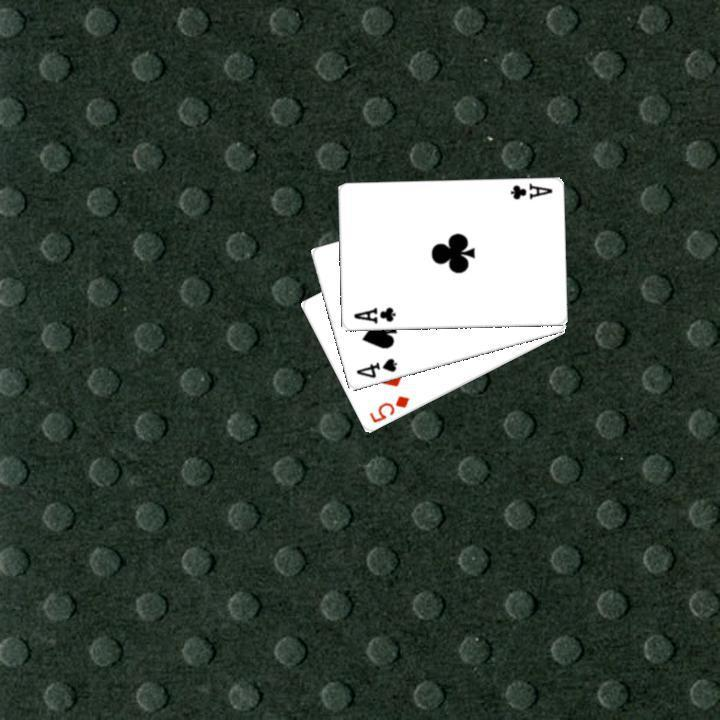4: (351, 354, 399, 381)
5: (365, 392, 411, 425)
A: (505, 179, 554, 202), (349, 303, 397, 326)
